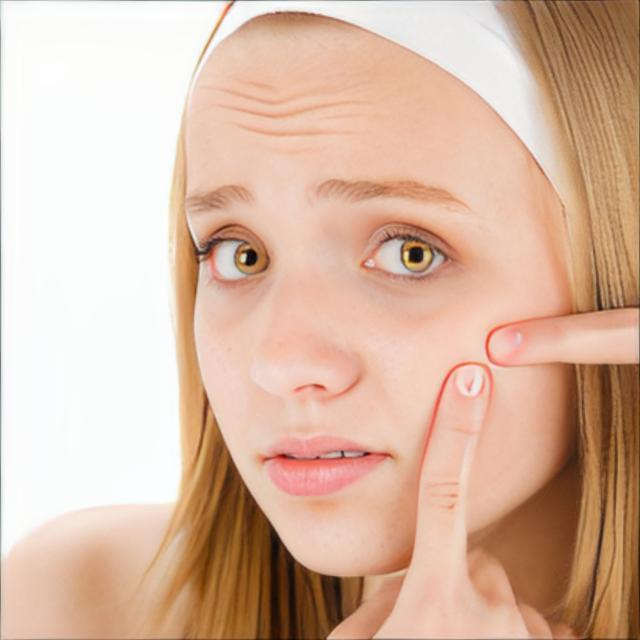sad: (180, 4, 582, 584)
